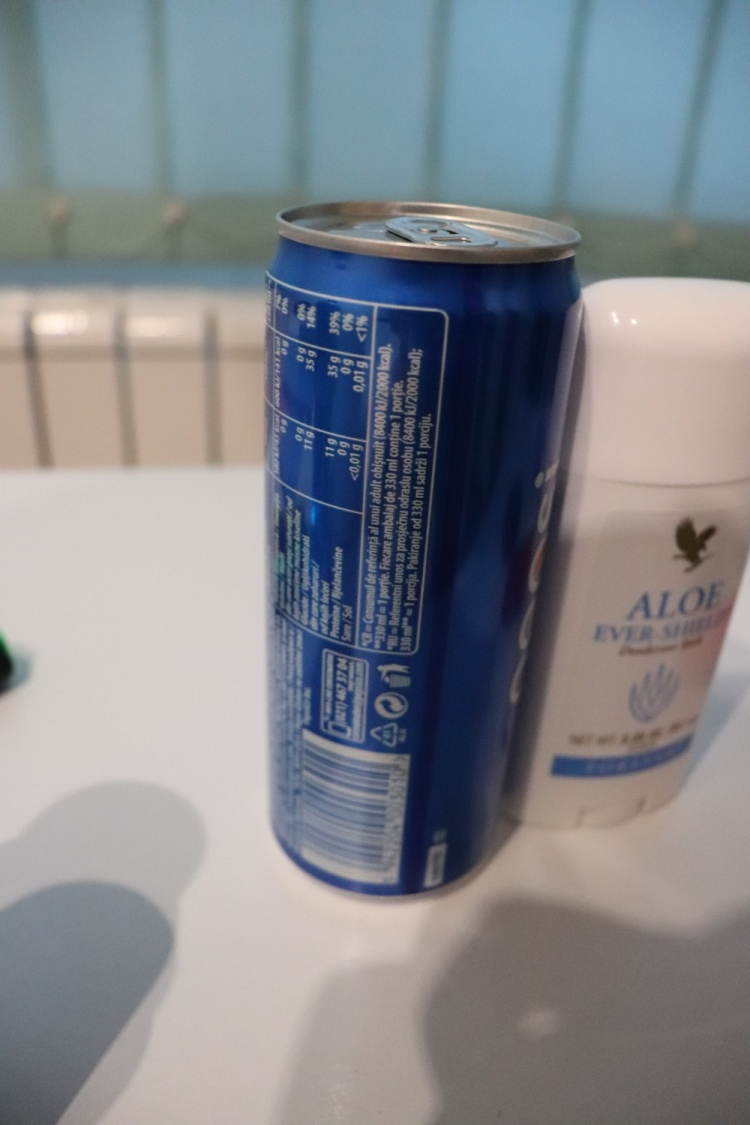pepsi: (253, 194, 588, 910)
